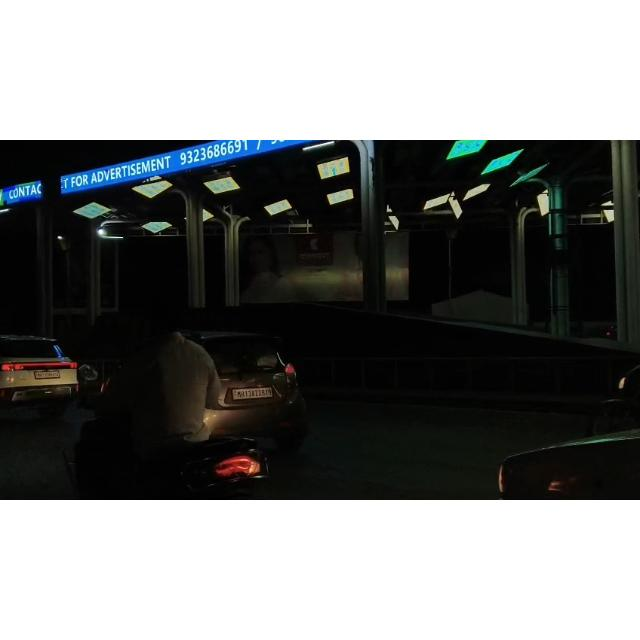car: (102, 324, 330, 452), (0, 326, 82, 422)
